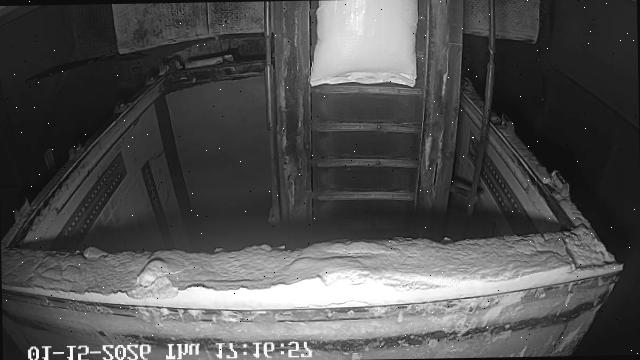bag: (308, 0, 419, 88)
